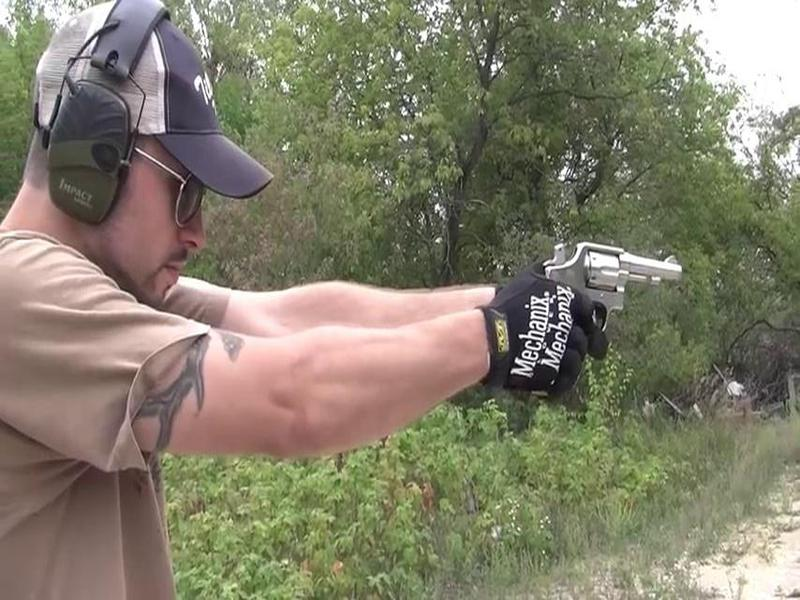Revolver: (534, 210, 703, 360)
